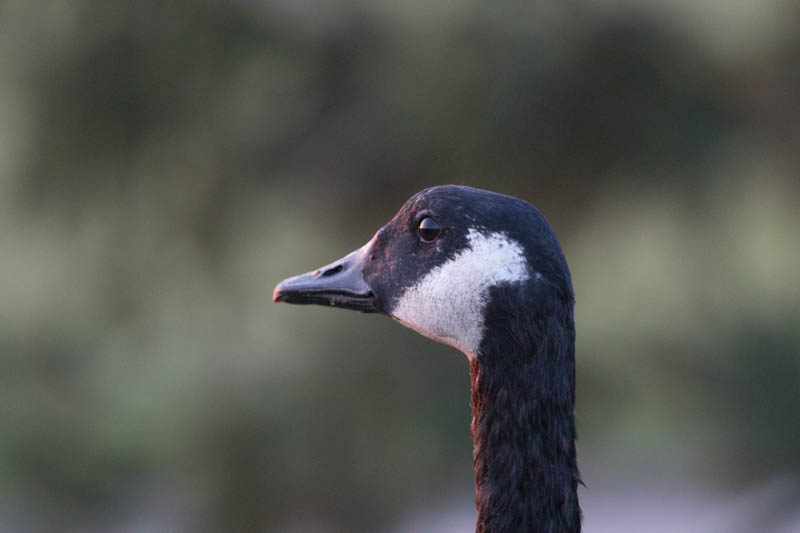goose-head: (271, 184, 576, 358)
